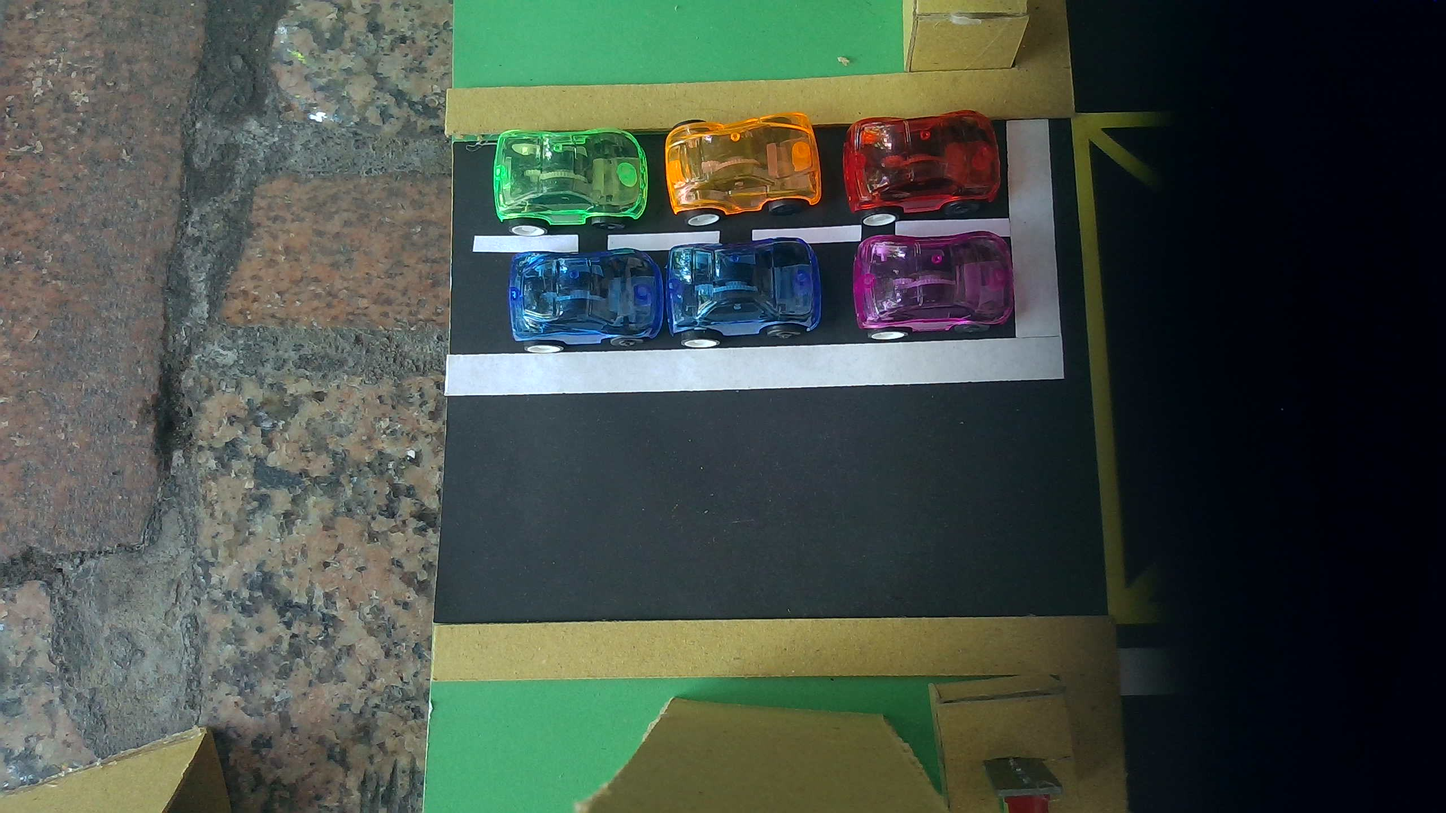Mobil biru: (667, 237, 821, 348), (507, 248, 665, 352)
Mobil hijau: (492, 128, 648, 235)
Mobil merah: (843, 110, 1001, 226)
Mobil orange: (665, 112, 821, 224)
Mobil ungu: (853, 231, 1013, 340)
